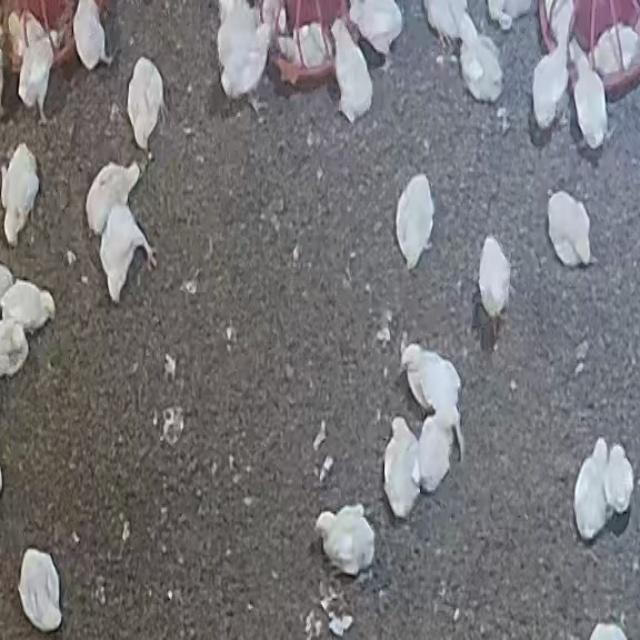chicken: (206, 26, 273, 115), (100, 204, 154, 305), (402, 338, 462, 414), (316, 503, 375, 579), (15, 545, 65, 633), (568, 436, 612, 535), (392, 178, 437, 272), (19, 26, 59, 127), (0, 139, 38, 245), (124, 54, 165, 151), (382, 418, 420, 519), (478, 233, 514, 338), (332, 18, 368, 122), (87, 167, 140, 236), (349, 0, 406, 61), (574, 59, 612, 145), (419, 408, 456, 494), (69, 0, 113, 71), (548, 193, 589, 267), (1, 282, 60, 332), (459, 34, 503, 98), (587, 22, 637, 78), (530, 51, 569, 119), (277, 24, 332, 69), (424, 0, 476, 46), (600, 443, 632, 512), (544, 0, 578, 49)
